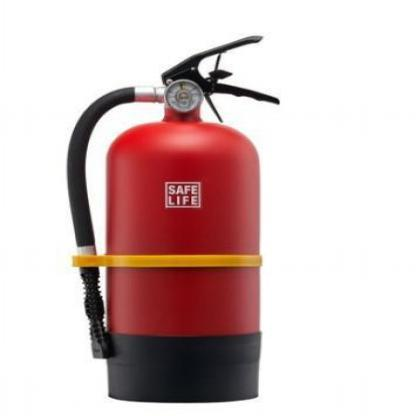Fire Extinguisher: (59, 10, 286, 411)
